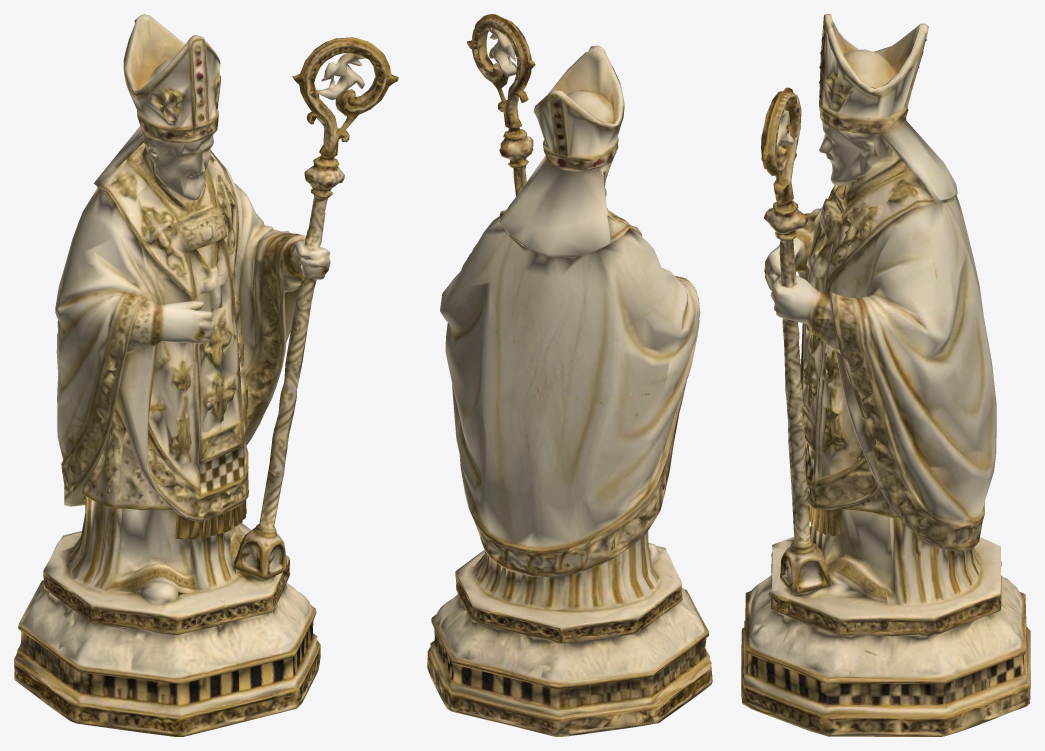
File: bishop.glb
3 views of the same model, side by side, from view 1: azimuth 30°, elevation 25°; view 2: azimuth 150°, elevation 25°; view 3: azimuth 270°, elevation 25° (orthographic). The views are drawn at different scales.
Size of the model in its own units: 0.8962 by 1.9 by 0.7532.
Materials: 1 (1 with a texture image).
